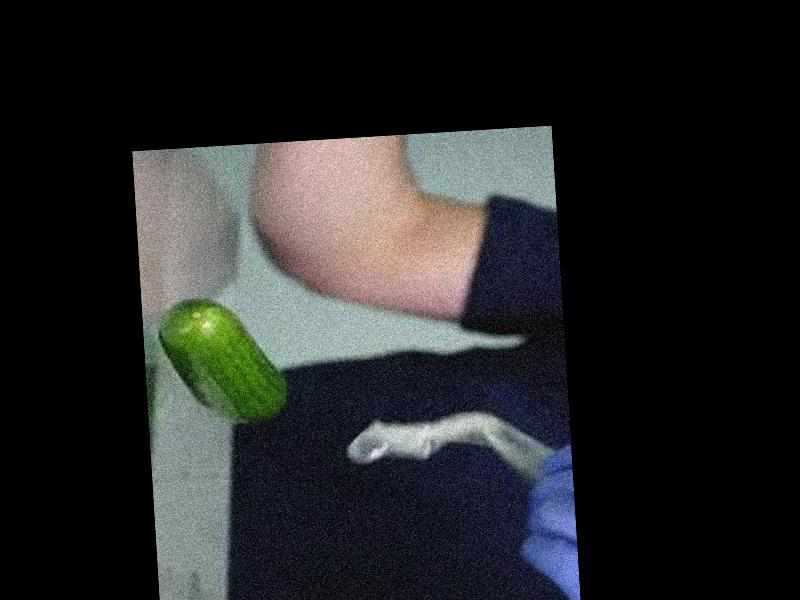Cucumber: (156, 293, 288, 427)
